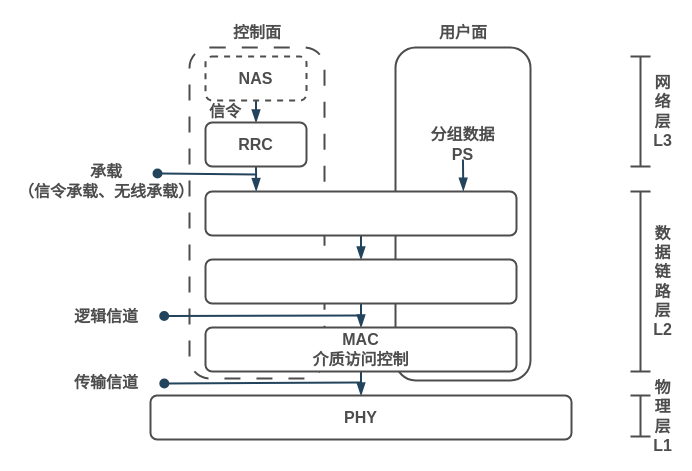
Image size: 692x471. Some labels were removed from this diagram. The shapes that lost their labels are listed below. From the top down, each one's centre as x and y in pixels, then its label:
At (x=360, y=213): "PDCP 分组数据汇入协议".
At (x=360, y=281): "RLC 无线链路控制".
